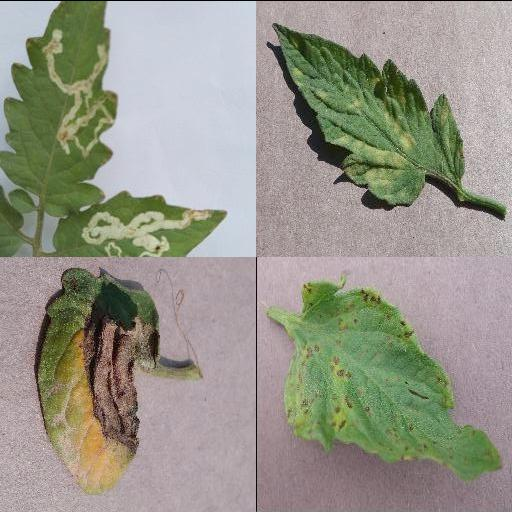Late Blight: (36, 267, 160, 495)
Leaf Miner: (0, 0, 118, 208), (51, 190, 228, 256)
Leaf Mold: (271, 23, 467, 205)
Septoria: (281, 280, 503, 478)
